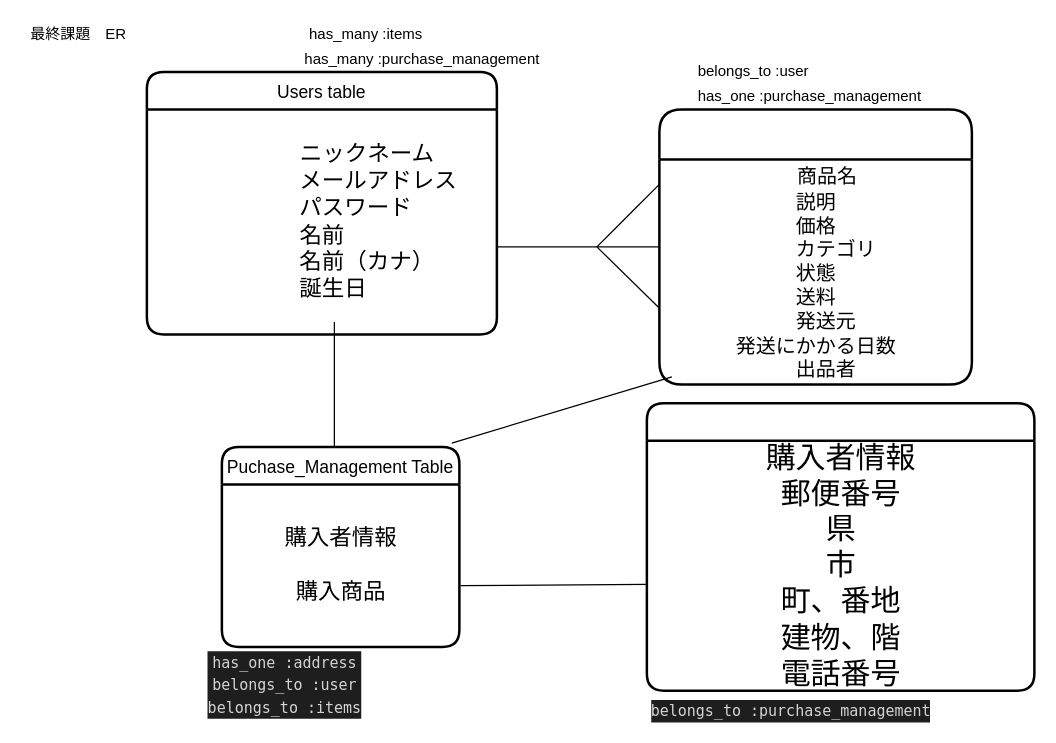
Some shapes in this 1056 by 743 pixel diagram are drawn without their labels. Here are the shapes that lost their labels. From the top down, the box of each, then its label:
(658, 108, 972, 385): Items table
(645, 401, 1035, 691): Adress Table
